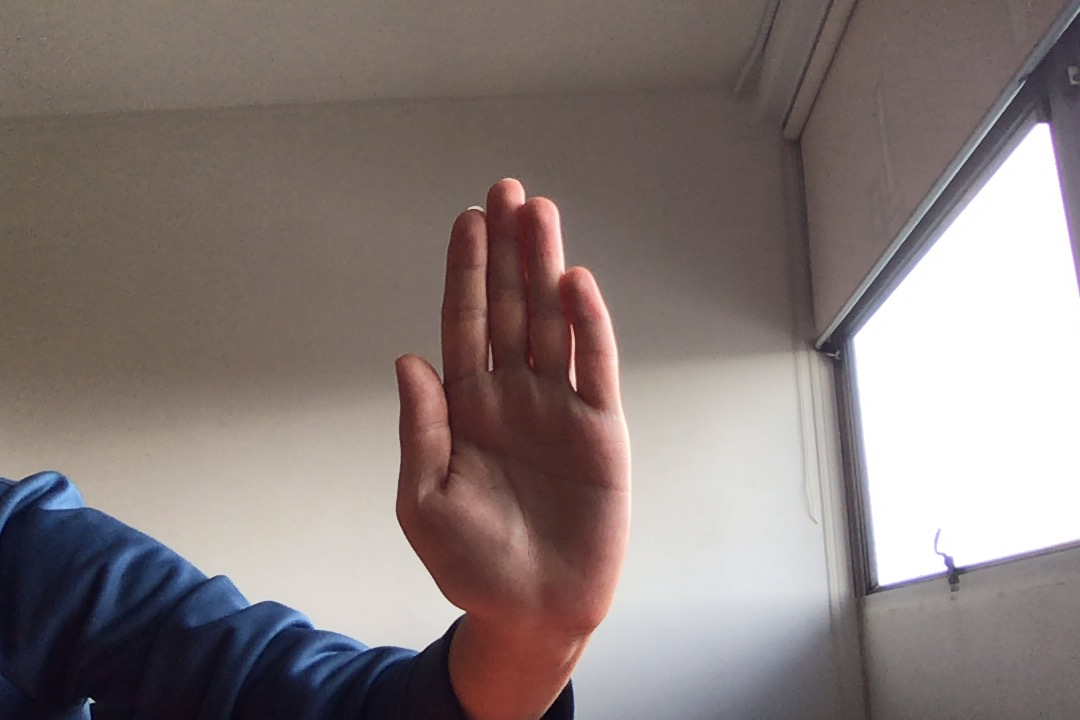palmhand: (384, 170, 634, 641)
